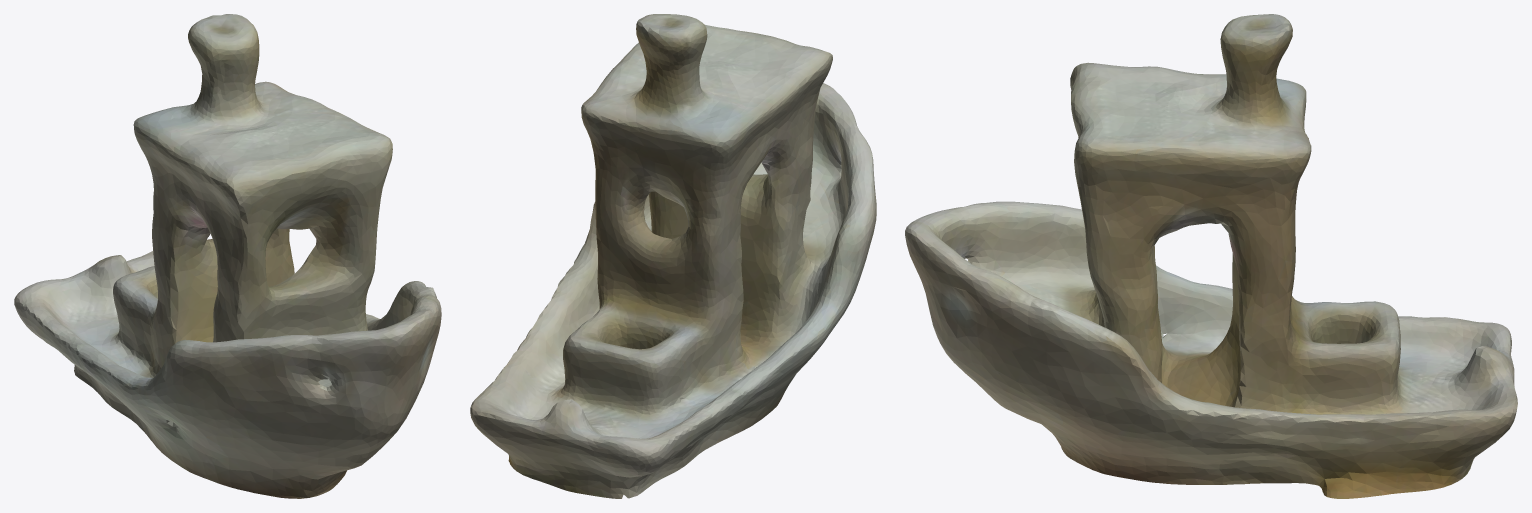
Rendered from Benchy Bake.glb.
3 views of the same model, side by side, from view 1: azimuth 30°, elevation 25°; view 2: azimuth 150°, elevation 25°; view 3: azimuth 270°, elevation 25° (orthographic). The views are drawn at different scales.
Visible parts, largest first — view 1: Mesh_0; view 2: Mesh_0; view 3: Mesh_0.
Boxes of the visible parts, box(x1,y1,x2,y2) form: Mesh_0: box(14, 14, 441, 498); Mesh_0: box(470, 14, 876, 498); Mesh_0: box(905, 14, 1517, 498).
Bounding box in the file's own units: 0.2813 × 0.4154 × 0.5431.
Materials: 1 (1 with a texture image).
